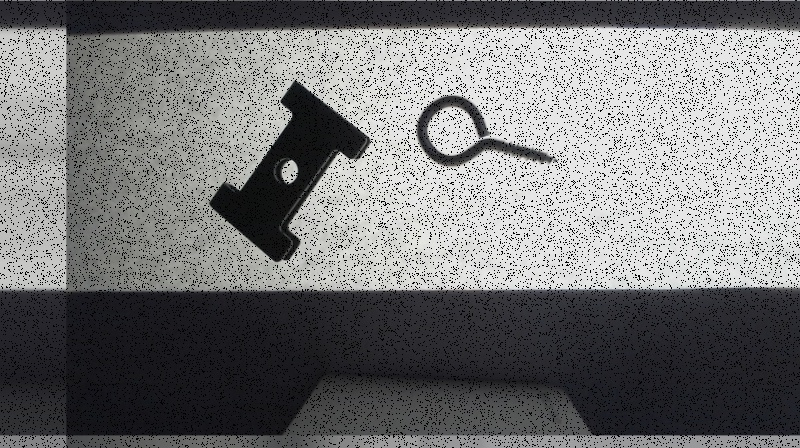O001: (415, 94, 561, 176)
O002: (206, 80, 370, 261)
